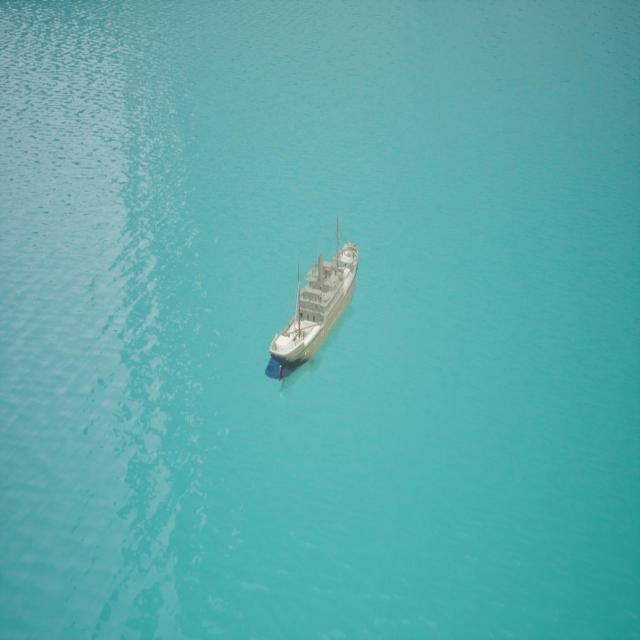fishing ship: (269, 244, 360, 381)
